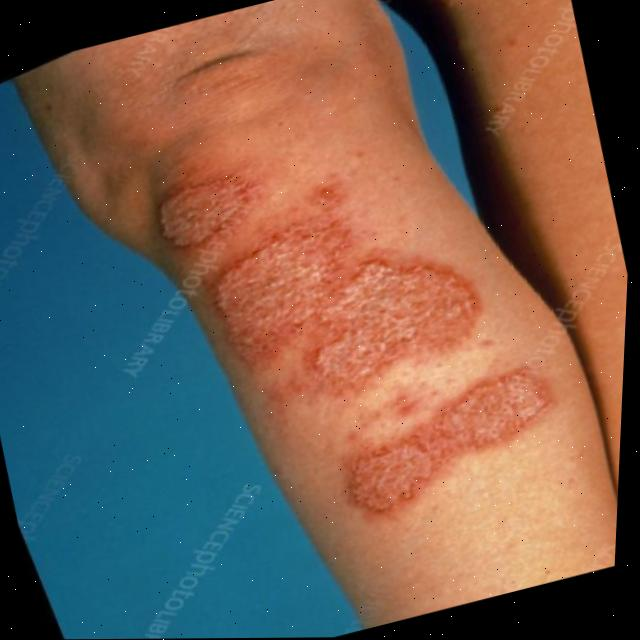Eczema: (143, 93, 566, 538)
